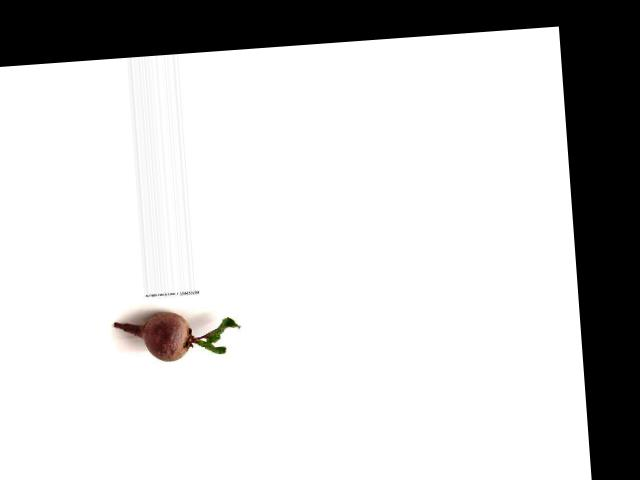beet: (114, 306, 242, 364)
